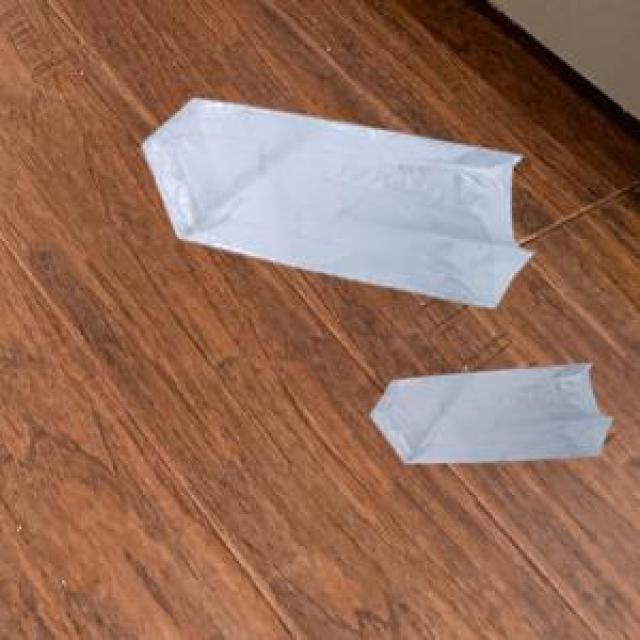plastic: (118, 83, 626, 505)
